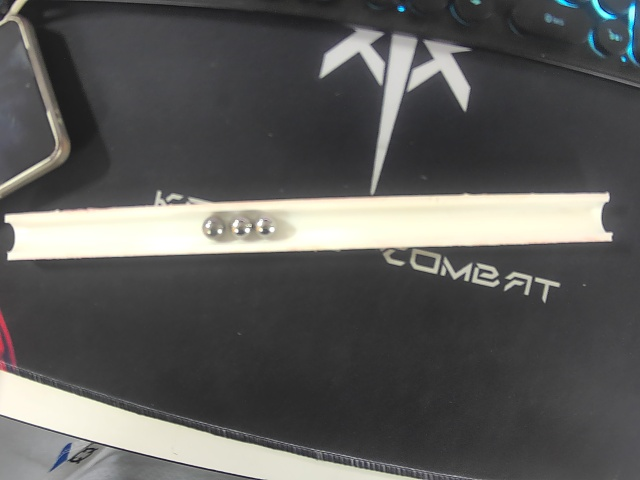steelball: (202, 216, 226, 240), (231, 216, 253, 239), (254, 216, 277, 238)
